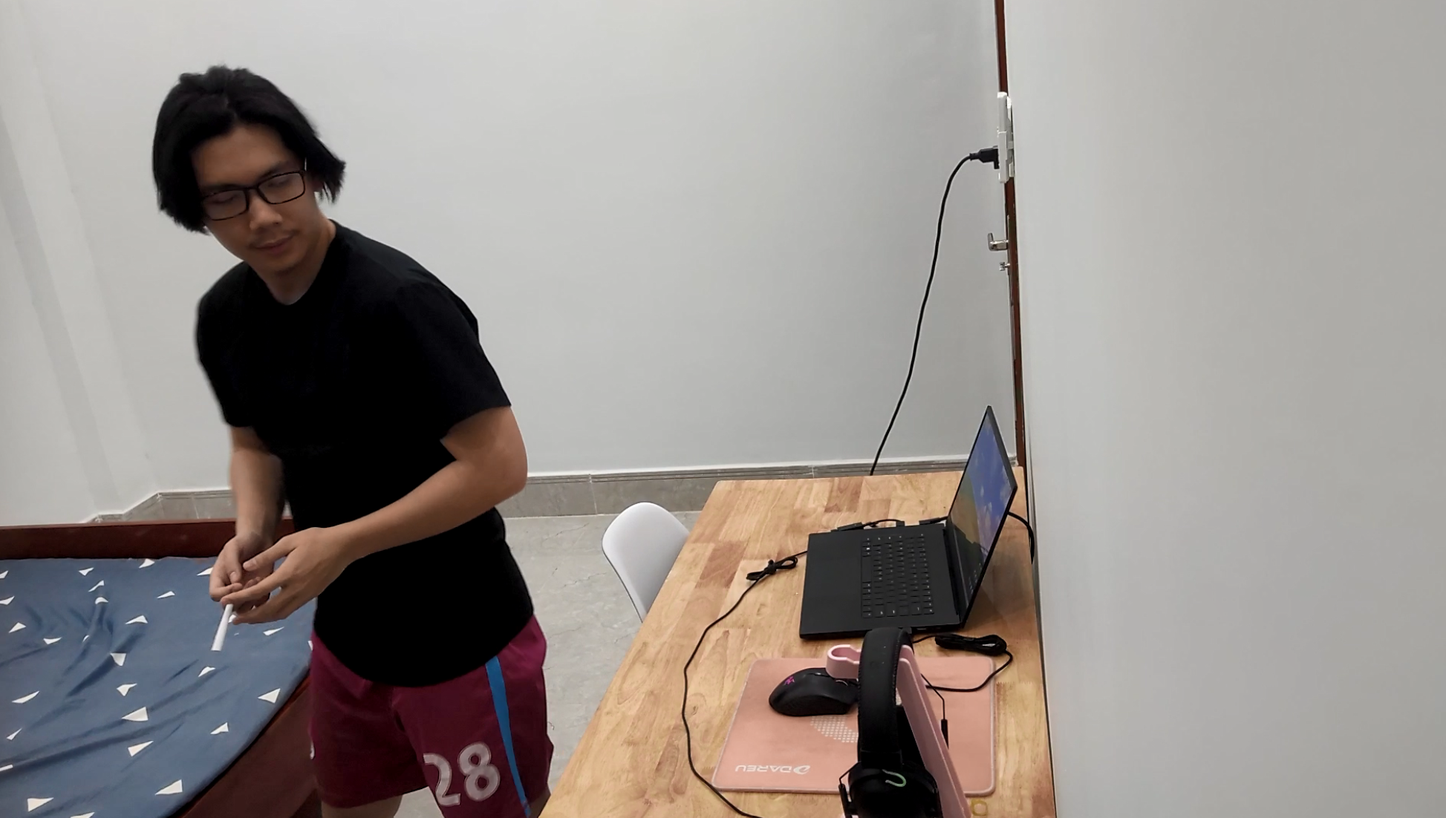cigarette: (203, 597, 243, 656)
person: (123, 44, 567, 818)
